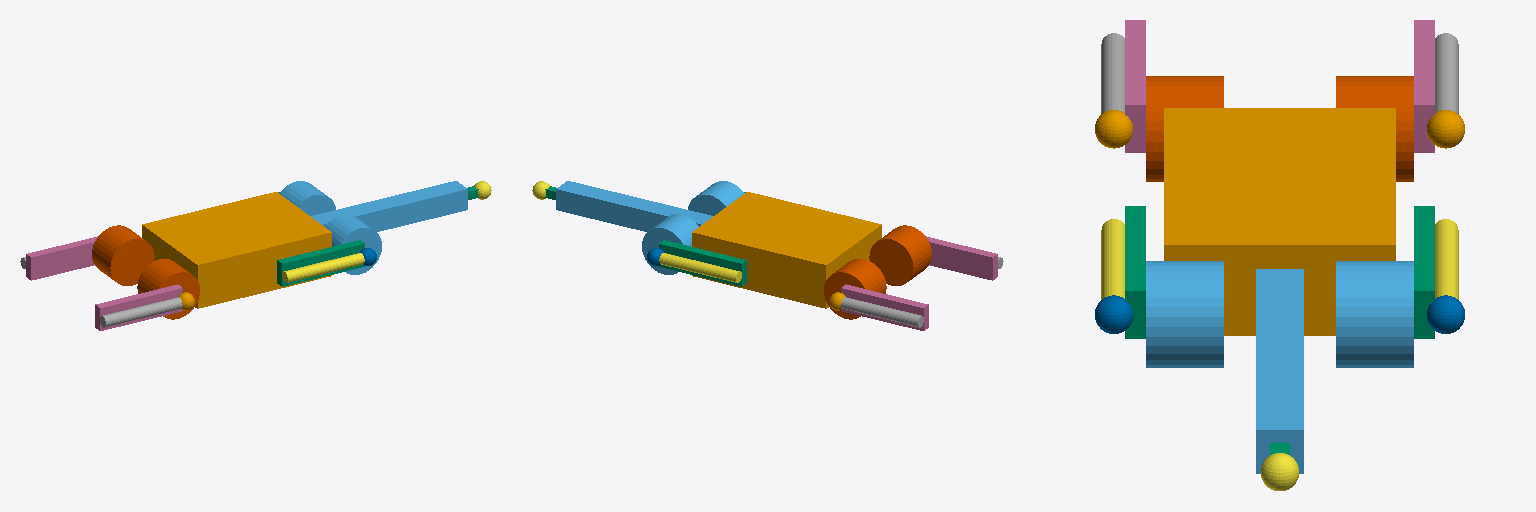
--- What the picture shows (computed from the rendered views, not written in the file) ---
3 views of the same robot in one strip: view 1: azimuth 30°, elevation 25°; view 2: azimuth 150°, elevation 25°; view 3: azimuth 270°, elevation 25° (orthographic).
Robot: spirit — 20 links, 19 joints (14 revolute, 5 fixed); root link body; default pose: every joint at zero.
Links seen in each view (by area): view 1: body, tail_link_0, hip1, upper1, hip3, hip2, upper2, upper3, hip0, lower3, lower2; view 2: body, tail_link_0, hip3, upper3, hip1, hip0, upper0, upper1, hip2, lower1, lower0; view 3: body, tail_link_0, hip0, hip2, hip1, hip3, upper1, upper3, upper0, upper2, lower1, lower3 (+7 smaller).
Boxes of the visible links, <box> form: body: <box>142,192,331,308</box>; tail_link_0: <box>311,181,467,231</box>; hip1: <box>92,225,154,285</box>; upper1: <box>26,236,97,280</box>; hip3: <box>137,259,199,319</box>; hip2: <box>325,214,381,274</box>; upper2: <box>277,240,364,286</box>; upper3: <box>95,284,182,330</box>; hip0: <box>279,181,335,215</box>; lower3: <box>100,297,182,327</box>; lower2: <box>282,253,364,282</box>; body: <box>692,192,881,308</box>; tail_link_0: <box>556,181,712,231</box>; hip3: <box>869,225,931,285</box>; upper3: <box>926,236,997,280</box>; hip1: <box>824,259,886,319</box>; hip0: <box>642,214,698,274</box>; upper0: <box>659,240,746,286</box>; upper1: <box>841,284,928,330</box>; hip2: <box>688,181,744,215</box>; lower1: <box>841,297,923,327</box>; lower0: <box>659,253,741,282</box>; body: <box>1164,108,1395,335</box>; tail_link_0: <box>1256,269,1303,473</box>; hip0: <box>1336,261,1413,367</box>; hip2: <box>1146,261,1223,367</box>; hip1: <box>1336,76,1413,181</box>; hip3: <box>1146,76,1223,181</box>; upper1: <box>1414,20,1434,152</box>; upper3: <box>1125,20,1145,152</box>; upper0: <box>1414,206,1434,338</box>; upper2: <box>1125,206,1145,338</box>; lower1: <box>1435,33,1458,113</box>; lower3: <box>1101,33,1124,113</box>.
Bounding box of the posed robot: 1.06 × 0.382 × 0.11 m (x, y, z).
Geometry: primitives only (box / cylinder / sphere), no mesh files.

URDF robot description (spirit):
<?xml version="1.0" encoding="utf-8"?>
<!-- =================================================================================== -->
<!-- |    This document was autogenerated by xacro from working_gazebo.urdf.xacro      | -->
<!-- |    EDITING THIS FILE BY HAND IS NOT RECOMMENDED                                 | -->
<!-- =================================================================================== -->
<!-- 
MIT License (modified)

Copyright (c) 2020 Ghost Robotics
Authors:
Avik De <[email redacted]>
Tom Jacobs <[email redacted]>

Permission is hereby granted, free of charge, to any person obtaining a copy
of this **file** (the "Software"), to deal
in the Software without restriction, including without limitation the rights
to use, copy, modify, merge, publish, distribute, sublicense, and/or sell
copies of the Software, and to permit persons to whom the Software is
furnished to do so, subject to the following conditions:

The above copyright notice and this permission notice shall be included in all
copies or substantial portions of the Software.

THE SOFTWARE IS PROVIDED "AS IS", WITHOUT WARRANTY OF ANY KIND, EXPRESS OR
IMPLIED, INCLUDING BUT NOT LIMITED TO THE WARRANTIES OF MERCHANTABILITY,
FITNESS FOR A PARTICULAR PURPOSE AND NONINFRINGEMENT. IN NO EVENT SHALL THE
AUTHORS OR COPYRIGHT HOLDERS BE LIABLE FOR ANY CLAIM, DAMAGES OR OTHER
LIABILITY, WHETHER IN AN ACTION OF CONTRACT, TORT OR OTHERWISE, ARISING FROM,
OUT OF OR IN CONNECTION WITH THE SOFTWARE OR THE USE OR OTHER DEALINGS IN THE
SOFTWARE. 
-->
<robot name="spirit">
  <!-- Body -->
  <link name="body">
    <visual>
      <origin rpy="0 0 0" xyz="0 0 0"/>
      <geometry>
        <box size="0.335 0.24 0.104"/>
      </geometry>
      <material name="darkgray"/>
    </visual>
    <inertial>
      <mass value="5.75"/>
      <!-- Uniform box -->
      <!-- <inertia ixx="1/12*${bodyMass}*(${bodyWidth}*${bodyWidth} + ${bodyHeight}*${bodyHeight})"  ixy="0"  ixz="0" iyy="1/12*${bodyMass}*(${bodyLength}*${bodyLength} + ${bodyHeight}*${bodyHeight})" iyz="0" izz="1/12*${bodyMass}*(${bodyLength}*${bodyLength} + ${bodyWidth}*${bodyWidth})"/> -->
      <inertia ixx="0.05" ixy="0" ixz="0" iyy="0.1" iyz="0" izz="0.1"/>
    </inertial>
    <!-- Just copy geometry for collision -->
    <collision>
      <origin rpy="0 0 0" xyz="0 0 0"/>
      <geometry>
        <box size="0.335 0.24 0.104"/>
      </geometry>
    </collision>
  </link>
  <gazebo reference="body">
    <material>Gazebo/Black</material>
  </gazebo>
  <gazebo reference="body">
    <gravity>true</gravity>
    <sensor name="imu_sensor" type="imu">
      <always_on>true</always_on>
      <visualize>true</visualize>
      <topic>__default_topic_</topic>
      <plugin filename="libgazebo_ros_imu_sensor.so" name="imu_plugin">
        <topicName>imu</topicName>
        <bodyName>body</bodyName>
        <updateRateHZ>500.0</updateRateHZ>
        <gaussianNoise>0.0</gaussianNoise>
        <xyzOffset>0 0 0</xyzOffset>
        <rpyOffset>0 0 0</rpyOffset>
        <frameName>body</frameName>
        <initialOrientationAsReference>true</initialOrientationAsReference>
      </plugin>
      <pose>0 0 0 0 0 0</pose>
    </sensor>
  </gazebo>
  <!-- Define our leg macro -->
  <!-- Hip motor -->
  <link name="hip0">
    <visual>
      <origin rpy="1.5707963268 0 0" xyz="0 0.028 0"/>
      <geometry>
        <cylinder length="0.08" radius="0.055"/>
      </geometry>
    </visual>
    <collision>
      <origin rpy="1.5707963268 0 0" xyz="0 0.028 0"/>
      <geometry>
        <cylinder length="0.08" radius="0.055"/>
      </geometry>
    </collision>
    <inertial>
      <mass value="0.575"/>
      <!-- <inertia ixx="1/12*${podMass}*${podLength}*${podLength} + 1/4*${podMass}*${podRadius}*${podRadius}"  ixy="0"  ixz="0" iyy="1/12*${podMass}*${podLength}*${podLength} + 1/4*${podMass}*${podRadius}*${podRadius}" iyz="0" izz="1/2*${podMass}*${podRadius}*$
				{podRadius}" /> -->
      <inertia ixx="0.00066963541" ixy="0" ixz="0" iyy="0.00066963541" iyz="0" izz="0.0008696875"/>
    </inertial>
  </link>
  <gazebo reference="hip0">
    <material>Gazebo/Grey</material>
  </gazebo>
  <!-- Abduction joint. Joint names are: 8 9 10 11 -->
  <joint name="8" type="revolute">
    <parent link="body"/>
    <child link="hip0"/>
    <axis xyz="1 0 0"/>
    <origin xyz="0.2263 0.07 0"/>
    <limit effort="40" lower="-0.707" upper="0.707" velocity="30"/>
    <dynamics damping="0.0" friction="0.0"/>
  </joint>
  <!-- Transmission elements required for Gazebo -->
  <transmission name="transmission_8">
    <type>transmission_interface/SimpleTransmission</type>
    <joint name="8">
      <hardwareInterface>hardware_interface/EffortJointInterface</hardwareInterface>
    </joint>
    <actuator name="motor_8">
      <hardwareInterface>EffortJointInterface</hardwareInterface>
      <mechanicalReduction>1</mechanicalReduction>
    </actuator>
  </transmission>
  <!-- Upper leg -->
  <link name="upper0">
    <visual>
      <origin rpy="0 0 0" xyz="-0.103 -0.022 0"/>
      <geometry>
        <box size="0.206 0.022 0.055"/>
      </geometry>
      <material name="silver"/>
    </visual>
    <collision>
      <origin rpy="0 0 0" xyz="-0.103 -0.022 0"/>
      <geometry>
        <box size="0.206 0.022 0.055"/>
      </geometry>
    </collision>
    <inertial>
      <mass value="0.775"/>
      <inertia ixx="5e-05" ixy="0" ixz="0" iyy="0.001" iyz="0" izz="0.001"/>
    </inertial>
  </link>
  <gazebo reference="upper0">
    <material>Gazebo/DarkGrey</material>
  </gazebo>
  <!-- Hip joint. (Motor to upper leg). Joint names are: 0 2 4 6 -->
  <joint name="0" type="revolute">
    <parent link="hip0"/>
    <child link="upper0"/>
    <axis xyz="0 -1 0"/>
    <origin xyz="0 0.10098 0"/>
    <!--  rpy="0 -0.3 0" -->
    <limit effort="40" lower="-6.28318530718" upper="6.28318530718" velocity="30"/>
    <dynamics damping="0.0" friction="0.0"/>
  </joint>
  <!-- Transmission elements required for Gazebo -->
  <transmission name="transmission_0">
    <type>transmission_interface/SimpleTransmission</type>
    <joint name="0">
      <hardwareInterface>hardware_interface/EffortJointInterface</hardwareInterface>
    </joint>
    <actuator name="motor_0">
      <hardwareInterface>EffortJointInterface</hardwareInterface>
      <mechanicalReduction>1</mechanicalReduction>
    </actuator>
  </transmission>
  <!-- Lower leg -->
  <link name="lower0">
    <visual>
      <origin rpy="0 1.5707963268 0" xyz="0.103 0 0"/>
      <geometry>
        <cylinder length="0.206" radius="0.013"/>
      </geometry>
      <material name="darkgray"/>
    </visual>
    <collision>
      <origin rpy="0 1.5707963268 0" xyz="0.103 0 0"/>
      <geometry>
        <cylinder length="0.206" radius="0.013"/>
      </geometry>
    </collision>
    <inertial>
      <mass value="0.075"/>
      <inertia ixx="5e-06" ixy="0" ixz="0" iyy="0.0001" iyz="0" izz="0.0001"/>
    </inertial>
  </link>
  <gazebo reference="lower0">
    <material>Gazebo/Grey</material>
  </gazebo>
  <!-- Knee joint. Joint names are: 1 3 5 7 -->
  <joint name="1" type="revolute">
    <parent link="upper0"/>
    <child link="lower0"/>
    <axis xyz="0 1 0"/>
    <origin xyz="-0.206 0 0"/>
    <!--rpy="0 0.5 0"-->
    <limit effort="40" lower="0" upper="3.14159265359" velocity="30"/>
    <dynamics damping="0.0" friction="0.0"/>
  </joint>
  <!-- Transmission elements required for Gazebo -->
  <transmission name="transmission_1">
    <type>transmission_interface/SimpleTransmission</type>
    <joint name="1">
      <hardwareInterface>hardware_interface/EffortJointInterface</hardwareInterface>
    </joint>
    <actuator name="motor_1">
      <hardwareInterface>EffortJointInterface</hardwareInterface>
      <mechanicalReduction>1</mechanicalReduction>
    </actuator>
  </transmission>
  <!-- Toe -->
  <link name="toe0">
    <contact>
      <friction_anchor/>
      <stiffness value="30000.0"/>
      <damping value="1000.0"/>
      <spinning_friction value="0.3"/>
      <lateral_friction value="50.0"/>
    </contact>
    <visual>
      <origin rpy="0 0 0" xyz="0 0 0"/>
      <geometry>
        <sphere radius="0.02"/>
      </geometry>
      <material name="darkgray"/>
    </visual>
    <collision>
      <origin rpy="0 0 0" xyz="0 0 0"/>
      <geometry>
        <sphere radius="0.02"/>
      </geometry>
    </collision>
    <inertial>
      <mass value="0.015"/>
      <inertia ixx="0.000025" ixy="0" ixz="0" iyy="0.000025" iyz="0" izz="0.000025"/>
      <!-- <inertia ixx="2/5*${toeMass}*${toeRadius}*${toeRadius}"  ixy="0"  ixz="0" iyy="2/5*${toeMass}*${toeRadius}*${toeRadius}" iyz="0" izz="2/5*${toeMass}*${toeRadius}*${toeRadius}" /> -->
    </inertial>
  </link>
  <gazebo reference="toe0">
    <material>Gazebo/Black</material>
    <collision>
      <surface>
        <bounce>
          <restitution_coefficient>0</restitution_coefficient>
          <threshold>1e+06</threshold>
        </bounce>
        <friction>
          <torsional>
            <coefficient>0.3</coefficient>
          </torsional>
          <ode>
            <mu>100.0</mu>
            <mu2>50.0</mu2>
          </ode>
          <bullet>
            <rolling_friction>0.3</rolling_friction>
            <friction2>50.0</friction2>
          </bullet>
        </friction>
        <contact>
          <bullet>
            <kp>30000.0</kp>
            <kd>1000.0</kd>
          </bullet>
          <ode>
            <kp>30000.0</kp>
            <kd>1000.0</kd>
          </ode>
        </contact>
      </surface>
    </collision>
  </gazebo>
  <joint name="jtoe0" type="fixed">
    <parent link="lower0"/>
    <child link="toe0"/>
    <origin xyz="0.206 0 -0.0"/>
    <dynamics damping="0.0" friction="0.0"/>
  </joint>
  <!-- Hip motor -->
  <link name="hip1">
    <visual>
      <origin rpy="1.5707963268 0 0" xyz="0 0.028 0"/>
      <geometry>
        <cylinder length="0.08" radius="0.055"/>
      </geometry>
    </visual>
    <collision>
      <origin rpy="1.5707963268 0 0" xyz="0 0.028 0"/>
      <geometry>
        <cylinder length="0.08" radius="0.055"/>
      </geometry>
    </collision>
    <inertial>
      <mass value="0.575"/>
      <!-- <inertia ixx="1/12*${podMass}*${podLength}*${podLength} + 1/4*${podMass}*${podRadius}*${podRadius}"  ixy="0"  ixz="0" iyy="1/12*${podMass}*${podLength}*${podLength} + 1/4*${podMass}*${podRadius}*${podRadius}" iyz="0" izz="1/2*${podMass}*${podRadius}*$
				{podRadius}" /> -->
      <inertia ixx="0.00066963541" ixy="0" ixz="0" iyy="0.00066963541" iyz="0" izz="0.0008696875"/>
    </inertial>
  </link>
  <gazebo reference="hip1">
    <material>Gazebo/Grey</material>
  </gazebo>
  <!-- Abduction joint. Joint names are: 8 9 10 11 -->
  <joint name="9" type="revolute">
    <parent link="body"/>
    <child link="hip1"/>
    <axis xyz="1 0 0"/>
    <origin xyz="-0.2263 0.07 0"/>
    <limit effort="40" lower="-0.707" upper="0.707" velocity="30"/>
    <dynamics damping="0.0" friction="0.0"/>
  </joint>
  <!-- Transmission elements required for Gazebo -->
  <transmission name="transmission_9">
    <type>transmission_interface/SimpleTransmission</type>
    <joint name="9">
      <hardwareInterface>hardware_interface/EffortJointInterface</hardwareInterface>
    </joint>
    <actuator name="motor_9">
      <hardwareInterface>EffortJointInterface</hardwareInterface>
      <mechanicalReduction>1</mechanicalReduction>
    </actuator>
  </transmission>
  <!-- Upper leg -->
  <link name="upper1">
    <visual>
      <origin rpy="0 0 0" xyz="-0.103 -0.022 0"/>
      <geometry>
        <box size="0.206 0.022 0.055"/>
      </geometry>
      <material name="silver"/>
    </visual>
    <collision>
      <origin rpy="0 0 0" xyz="-0.103 -0.022 0"/>
      <geometry>
        <box size="0.206 0.022 0.055"/>
      </geometry>
    </collision>
    <inertial>
      <mass value="0.775"/>
      <inertia ixx="5e-05" ixy="0" ixz="0" iyy="0.001" iyz="0" izz="0.001"/>
    </inertial>
  </link>
  <gazebo reference="upper1">
    <material>Gazebo/DarkGrey</material>
  </gazebo>
  <!-- Hip joint. (Motor to upper leg). Joint names are: 0 2 4 6 -->
  <joint name="2" type="revolute">
    <parent link="hip1"/>
    <child link="upper1"/>
    <axis xyz="0 -1 0"/>
    <origin xyz="0 0.10098 0"/>
    <!--  rpy="0 -0.3 0" -->
    <limit effort="40" lower="-6.28318530718" upper="6.28318530718" velocity="30"/>
    <dynamics damping="0.0" friction="0.0"/>
  </joint>
  <!-- Transmission elements required for Gazebo -->
  <transmission name="transmission_2">
    <type>transmission_interface/SimpleTransmission</type>
    <joint name="2">
      <hardwareInterface>hardware_interface/EffortJointInterface</hardwareInterface>
    </joint>
    <actuator name="motor_2">
      <hardwareInterface>EffortJointInterface</hardwareInterface>
      <mechanicalReduction>1</mechanicalReduction>
    </actuator>
  </transmission>
  <!-- Lower leg -->
  <link name="lower1">
    <visual>
      <origin rpy="0 1.5707963268 0" xyz="0.103 0 0"/>
      <geometry>
        <cylinder length="0.206" radius="0.013"/>
      </geometry>
      <material name="darkgray"/>
    </visual>
    <collision>
      <origin rpy="0 1.5707963268 0" xyz="0.103 0 0"/>
      <geometry>
        <cylinder length="0.206" radius="0.013"/>
      </geometry>
    </collision>
    <inertial>
      <mass value="0.075"/>
      <inertia ixx="5e-06" ixy="0" ixz="0" iyy="0.0001" iyz="0" izz="0.0001"/>
    </inertial>
  </link>
  <gazebo reference="lower1">
    <material>Gazebo/Grey</material>
  </gazebo>
  <!-- Knee joint. Joint names are: 1 3 5 7 -->
  <joint name="3" type="revolute">
    <parent link="upper1"/>
    <child link="lower1"/>
    <axis xyz="0 1 0"/>
    <origin xyz="-0.206 0 0"/>
    <!--rpy="0 0.5 0"-->
    <limit effort="40" lower="0" upper="3.14159265359" velocity="30"/>
    <dynamics damping="0.0" friction="0.0"/>
  </joint>
  <!-- Transmission elements required for Gazebo -->
  <transmission name="transmission_3">
    <type>transmission_interface/SimpleTransmission</type>
    <joint name="3">
      <hardwareInterface>hardware_interface/EffortJointInterface</hardwareInterface>
    </joint>
    <actuator name="motor_3">
      <hardwareInterface>EffortJointInterface</hardwareInterface>
      <mechanicalReduction>1</mechanicalReduction>
    </actuator>
  </transmission>
  <!-- Toe -->
  <link name="toe1">
    <contact>
      <friction_anchor/>
      <stiffness value="30000.0"/>
      <damping value="1000.0"/>
      <spinning_friction value="0.3"/>
      <lateral_friction value="50.0"/>
    </contact>
    <visual>
      <origin rpy="0 0 0" xyz="0 0 0"/>
      <geometry>
        <sphere radius="0.02"/>
      </geometry>
      <material name="darkgray"/>
    </visual>
    <collision>
      <origin rpy="0 0 0" xyz="0 0 0"/>
      <geometry>
        <sphere radius="0.02"/>
      </geometry>
    </collision>
    <inertial>
      <mass value="0.015"/>
      <inertia ixx="0.000025" ixy="0" ixz="0" iyy="0.000025" iyz="0" izz="0.000025"/>
      <!-- <inertia ixx="2/5*${toeMass}*${toeRadius}*${toeRadius}"  ixy="0"  ixz="0" iyy="2/5*${toeMass}*${toeRadius}*${toeRadius}" iyz="0" izz="2/5*${toeMass}*${toeRadius}*${toeRadius}" /> -->
    </inertial>
  </link>
  <gazebo reference="toe1">
    <material>Gazebo/Black</material>
    <collision>
      <surface>
        <bounce>
          <restitution_coefficient>0</restitution_coefficient>
          <threshold>1e+06</threshold>
        </bounce>
        <friction>
          <torsional>
            <coefficient>0.3</coefficient>
          </torsional>
          <ode>
            <mu>100.0</mu>
            <mu2>50.0</mu2>
          </ode>
          <bullet>
            <rolling_friction>0.3</rolling_friction>
            <friction2>50.0</friction2>
          </bullet>
        </friction>
        <contact>
          <bullet>
            <kp>30000.0</kp>
            <kd>1000.0</kd>
          </bullet>
          <ode>
            <kp>30000.0</kp>
            <kd>1000.0</kd>
          </ode>
        </contact>
      </surface>
    </collision>
  </gazebo>
  <joint name="jtoe1" type="fixed">
    <parent link="lower1"/>
    <child link="toe1"/>
    <origin xyz="0.206 0 -0.0"/>
    <dynamics damping="0.0" friction="0.0"/>
  </joint>
  <!-- Hip motor -->
  <link name="hip2">
    <visual>
      <origin rpy="1.5707963268 0 0" xyz="0 -0.028 0"/>
      <geometry>
        <cylinder length="0.08" radius="0.055"/>
      </geometry>
    </visual>
    <collision>
      <origin rpy="1.5707963268 0 0" xyz="0 -0.028 0"/>
      <geometry>
        <cylinder length="0.08" radius="0.055"/>
      </geometry>
    </collision>
    <inertial>
      <mass value="0.575"/>
      <!-- <inertia ixx="1/12*${podMass}*${podLength}*${podLength} + 1/4*${podMass}*${podRadius}*${podRadius}"  ixy="0"  ixz="0" iyy="1/12*${podMass}*${podLength}*${podLength} + 1/4*${podMass}*${podRadius}*${podRadius}" iyz="0" izz="1/2*${podMass}*${podRadius}*$
				{podRadius}" /> -->
      <inertia ixx="0.00066963541" ixy="0" ixz="0" iyy="0.00066963541" iyz="0" izz="0.0008696875"/>
    </inertial>
  </link>
  <gazebo reference="hip2">
    <material>Gazebo/Grey</material>
  </gazebo>
  <!-- Abduction joint. Joint names are: 8 9 10 11 -->
  <joint name="10" type="revolute">
    <parent link="body"/>
    <child link="hip2"/>
    <axis xyz="1 0 0"/>
    <origin xyz="0.2263 -0.07 0"/>
    <limit effort="40" lower="-0.707" upper="0.707" velocity="30"/>
    <dynamics damping="0.0" friction="0.0"/>
  </joint>
  <!-- Transmission elements required for Gazebo -->
  <transmission name="transmission_10">
    <type>transmission_interface/SimpleTransmission</type>
    <joint name="10">
      <hardwareInterface>hardware_interface/EffortJointInterface</hardwareInterface>
    </joint>
    <actuator name="motor_10">
      <hardwareInterface>EffortJointInterface</hardwareInterface>
      <mechanicalReduction>1</mechanicalReduction>
    </actuator>
  </transmission>
  <!-- Upper leg -->
  <link name="upper2">
    <visual>
      <origin rpy="0 0 0" xyz="-0.103 0.022 0"/>
      <geometry>
        <box size="0.206 0.022 0.055"/>
      </geometry>
      <material name="silver"/>
    </visual>
    <collision>
      <origin rpy="0 0 0" xyz="-0.103 0.022 0"/>
      <geometry>
        <box size="0.206 0.022 0.055"/>
      </geometry>
    </collision>
    <inertial>
      <mass value="0.775"/>
      <inertia ixx="5e-05" ixy="0" ixz="0" iyy="0.001" iyz="0" izz="0.001"/>
    </inertial>
  </link>
  <gazebo reference="upper2">
    <material>Gazebo/DarkGrey</material>
  </gazebo>
  <!-- Hip joint. (Motor to upper leg). Joint names are: 0 2 4 6 -->
  <joint name="4" type="revolute">
    <parent link="hip2"/>
    <child link="upper2"/>
    <axis xyz="0 -1 0"/>
    <origin xyz="0 -0.10098 0"/>
    <!--  rpy="0 -0.3 0" -->
    <limit effort="40" lower="-6.28318530718" upper="6.28318530718" velocity="30"/>
    <dynamics damping="0.0" friction="0.0"/>
  </joint>
  <!-- Transmission elements required for Gazebo -->
  <transmission name="transmission_4">
    <type>transmission_interface/SimpleTransmission</type>
    <joint name="4">
      <hardwareInterface>hardware_interface/EffortJointInterface</hardwareInterface>
    </joint>
    <actuator name="motor_4">
      <hardwareInterface>EffortJointInterface</hardwareInterface>
      <mechanicalReduction>1</mechanicalReduction>
    </actuator>
  </transmission>
  <!-- Lower leg -->
  <link name="lower2">
    <visual>
      <origin rpy="0 1.5707963268 0" xyz="0.103 0 0"/>
      <geometry>
        <cylinder length="0.206" radius="0.013"/>
      </geometry>
      <material name="darkgray"/>
    </visual>
    <collision>
      <origin rpy="0 1.5707963268 0" xyz="0.103 0 0"/>
      <geometry>
        <cylinder length="0.206" radius="0.013"/>
      </geometry>
    </collision>
    <inertial>
      <mass value="0.075"/>
      <inertia ixx="5e-06" ixy="0" ixz="0" iyy="0.0001" iyz="0" izz="0.0001"/>
    </inertial>
  </link>
  <gazebo reference="lower2">
    <material>Gazebo/Grey</material>
  </gazebo>
  <!-- Knee joint. Joint names are: 1 3 5 7 -->
  <joint name="5" type="revolute">
    <parent link="upper2"/>
    <child link="lower2"/>
    <axis xyz="0 1 0"/>
    <origin xyz="-0.206 0 0"/>
    <!--rpy="0 0.5 0"-->
    <limit effort="40" lower="0" upper="3.14159265359" velocity="30"/>
    <dynamics damping="0.0" friction="0.0"/>
  </joint>
  <!-- Transmission elements required for Gazebo -->
  <transmission name="transmission_5">
    <type>transmission_interface/SimpleTransmission</type>
    <joint name="5">
      <hardwareInterface>hardware_interface/EffortJointInterface</hardwareInterface>
    </joint>
    <actuator name="motor_5">
      <hardwareInterface>EffortJointInterface</hardwareInterface>
      <mechanicalReduction>1</mechanicalReduction>
    </actuator>
  </transmission>
  <!-- Toe -->
  <link name="toe2">
    <contact>
      <friction_anchor/>
      <stiffness value="30000.0"/>
      <damping value="1000.0"/>
      <spinning_friction value="0.3"/>
      <lateral_friction value="50.0"/>
    </contact>
    <visual>
      <origin rpy="0 0 0" xyz="0 0 0"/>
      <geometry>
        <sphere radius="0.02"/>
      </geometry>
      <material name="darkgray"/>
    </visual>
    <collision>
      <origin rpy="0 0 0" xyz="0 0 0"/>
      <geometry>
        <sphere radius="0.02"/>
      </geometry>
    </collision>
    <inertial>
      <mass value="0.015"/>
      <inertia ixx="0.000025" ixy="0" ixz="0" iyy="0.000025" iyz="0" izz="0.000025"/>
      <!-- <inertia ixx="2/5*${toeMass}*${toeRadius}*${toeRadius}"  ixy="0"  ixz="0" iyy="2/5*${toeMass}*${toeRadius}*${toeRadius}" iyz="0" izz="2/5*${toeMass}*${toeRadius}*${toeRadius}" /> -->
    </inertial>
  </link>
  <gazebo reference="toe2">
    <material>Gazebo/Black</material>
    <collision>
      <surface>
        <bounce>
          <restitution_coefficient>0</restitution_coefficient>
          <threshold>1e+06</threshold>
        </bounce>
        <friction>
          <torsional>
            <coefficient>0.3</coefficient>
          </torsional>
          <ode>
            <mu>100.0</mu>
            <mu2>50.0</mu2>
          </ode>
          <bullet>
            <rolling_friction>0.3</rolling_friction>
            <friction2>50.0</friction2>
          </bullet>
        </friction>
        <contact>
          <bullet>
            <kp>30000.0</kp>
            <kd>1000.0</kd>
          </bullet>
          <ode>
            <kp>30000.0</kp>
            <kd>1000.0</kd>
          </ode>
        </contact>
      </surface>
    </collision>
  </gazebo>
  <joint name="jtoe2" type="fixed">
    <parent link="lower2"/>
    <child link="toe2"/>
    <origin xyz="0.206 0 -0.0"/>
    <dynamics damping="0.0" friction="0.0"/>
  </joint>
  <!-- Hip motor -->
  <link name="hip3">
    <visual>
      <origin rpy="1.5707963268 0 0" xyz="0 -0.028 0"/>
      <geometry>
        <cylinder length="0.08" radius="0.055"/>
      </geometry>
    </visual>
    <collision>
      <origin rpy="1.5707963268 0 0" xyz="0 -0.028 0"/>
      <geometry>
        <cylinder length="0.08" radius="0.055"/>
      </geometry>
    </collision>
    <inertial>
      <mass value="0.575"/>
      <!-- <inertia ixx="1/12*${podMass}*${podLength}*${podLength} + 1/4*${podMass}*${podRadius}*${podRadius}"  ixy="0"  ixz="0" iyy="1/12*${podMass}*${podLength}*${podLength} + 1/4*${podMass}*${podRadius}*${podRadius}" iyz="0" izz="1/2*${podMass}*${podRadius}*$
				{podRadius}" /> -->
      <inertia ixx="0.00066963541" ixy="0" ixz="0" iyy="0.00066963541" iyz="0" izz="0.0008696875"/>
    </inertial>
  </link>
  <gazebo reference="hip3">
    <material>Gazebo/Grey</material>
  </gazebo>
  <!-- Abduction joint. Joint names are: 8 9 10 11 -->
  <joint name="11" type="revolute">
    <parent link="body"/>
    <child link="hip3"/>
    <axis xyz="1 0 0"/>
    <origin xyz="-0.2263 -0.07 0"/>
    <limit effort="40" lower="-0.707" upper="0.707" velocity="30"/>
    <dynamics damping="0.0" friction="0.0"/>
  </joint>
  <!-- Transmission elements required for Gazebo -->
  <transmission name="transmission_11">
    <type>transmission_interface/SimpleTransmission</type>
    <joint name="11">
      <hardwareInterface>hardware_interface/EffortJointInterface</hardwareInterface>
    </joint>
    <actuator name="motor_11">
      <hardwareInterface>EffortJointInterface</hardwareInterface>
      <mechanicalReduction>1</mechanicalReduction>
    </actuator>
  </transmission>
  <!-- Upper leg -->
  <link name="upper3">
    <visual>
      <origin rpy="0 0 0" xyz="-0.103 0.022 0"/>
      <geometry>
        <box size="0.206 0.022 0.055"/>
      </geometry>
      <material name="silver"/>
    </visual>
    <collision>
      <origin rpy="0 0 0" xyz="-0.103 0.022 0"/>
      <geometry>
        <box size="0.206 0.022 0.055"/>
      </geometry>
    </collision>
    <inertial>
      <mass value="0.775"/>
      <inertia ixx="5e-05" ixy="0" ixz="0" iyy="0.001" iyz="0" izz="0.001"/>
    </inertial>
  </link>
  <gazebo reference="upper3">
    <material>Gazebo/DarkGrey</material>
  </gazebo>
  <!-- Hip joint. (Motor to upper leg). Joint names are: 0 2 4 6 -->
  <joint name="6" type="revolute">
    <parent link="hip3"/>
    <child link="upper3"/>
    <axis xyz="0 -1 0"/>
    <origin xyz="0 -0.10098 0"/>
    <!--  rpy="0 -0.3 0" -->
    <limit effort="40" lower="-6.28318530718" upper="6.28318530718" velocity="30"/>
    <dynamics damping="0.0" friction="0.0"/>
  </joint>
  <!-- Transmission elements required for Gazebo -->
  <transmission name="transmission_6">
    <type>transmission_interface/SimpleTransmission</type>
    <joint name="6">
      <hardwareInterface>hardware_interface/EffortJointInterface</hardwareInterface>
    </joint>
    <actuator name="motor_6">
      <hardwareInterface>EffortJointInterface</hardwareInterface>
      <mechanicalReduction>1</mechanicalReduction>
    </actuator>
  </transmission>
  <!-- Lower leg -->
  <link name="lower3">
    <visual>
      <origin rpy="0 1.5707963268 0" xyz="0.103 0 0"/>
      <geometry>
        <cylinder length="0.206" radius="0.013"/>
      </geometry>
      <material name="darkgray"/>
    </visual>
    <collision>
      <origin rpy="0 1.5707963268 0" xyz="0.103 0 0"/>
      <geometry>
        <cylinder length="0.206" radius="0.013"/>
      </geometry>
    </collision>
    <inertial>
      <mass value="0.075"/>
      <inertia ixx="5e-06" ixy="0" ixz="0" iyy="0.0001" iyz="0" izz="0.0001"/>
    </inertial>
  </link>
  <gazebo reference="lower3">
    <material>Gazebo/Grey</material>
  </gazebo>
  <!-- Knee joint. Joint names are: 1 3 5 7 -->
  <joint name="7" type="revolute">
    <parent link="upper3"/>
    <child link="lower3"/>
    <axis xyz="0 1 0"/>
    <origin xyz="-0.206 0 0"/>
    <!--rpy="0 0.5 0"-->
    <limit effort="40" lower="0" upper="3.14159265359" velocity="30"/>
    <dynamics damping="0.0" friction="0.0"/>
  </joint>
  <!-- Transmission elements required for Gazebo -->
  <transmission name="transmission_7">
    <type>transmission_interface/SimpleTransmission</type>
    <joint name="7">
      <hardwareInterface>hardware_interface/EffortJointInterface</hardwareInterface>
    </joint>
    <actuator name="motor_7">
      <hardwareInterface>EffortJointInterface</hardwareInterface>
      <mechanicalReduction>1</mechanicalReduction>
    </actuator>
  </transmission>
  <!-- Toe -->
  <link name="toe3">
    <contact>
      <friction_anchor/>
      <stiffness value="30000.0"/>
      <damping value="1000.0"/>
      <spinning_friction value="0.3"/>
      <lateral_friction value="50.0"/>
    </contact>
    <visual>
      <origin rpy="0 0 0" xyz="0 0 0"/>
      <geometry>
        <sphere radius="0.02"/>
      </geometry>
      <material name="darkgray"/>
    </visual>
    <collision>
      <origin rpy="0 0 0" xyz="0 0 0"/>
      <geometry>
        <sphere radius="0.02"/>
      </geometry>
    </collision>
    <inertial>
      <mass value="0.015"/>
      <inertia ixx="0.000025" ixy="0" ixz="0" iyy="0.000025" iyz="0" izz="0.000025"/>
      <!-- <inertia ixx="2/5*${toeMass}*${toeRadius}*${toeRadius}"  ixy="0"  ixz="0" iyy="2/5*${toeMass}*${toeRadius}*${toeRadius}" iyz="0" izz="2/5*${toeMass}*${toeRadius}*${toeRadius}" /> -->
    </inertial>
  </link>
  <gazebo reference="toe3">
    <material>Gazebo/Black</material>
    <collision>
      <surface>
        <bounce>
          <restitution_coefficient>0</restitution_coefficient>
          <threshold>1e+06</threshold>
        </bounce>
        <friction>
          <torsional>
            <coefficient>0.3</coefficient>
          </torsional>
          <ode>
            <mu>100.0</mu>
            <mu2>50.0</mu2>
          </ode>
          <bullet>
            <rolling_friction>0.3</rolling_friction>
            <friction2>50.0</friction2>
          </bullet>
        </friction>
        <contact>
          <bullet>
            <kp>30000.0</kp>
            <kd>1000.0</kd>
          </bullet>
          <ode>
            <kp>30000.0</kp>
            <kd>1000.0</kd>
          </ode>
        </contact>
      </surface>
    </collision>
  </gazebo>
  <joint name="jtoe3" type="fixed">
    <parent link="lower3"/>
    <child link="toe3"/>
    <origin xyz="0.206 0 -0.0"/>
    <dynamics damping="0.0" friction="0.0"/>
  </joint>
  <!--    CUSTOMIZED SECTIONS BELOW. NOT FROM GHOST ROBOTICS.    -->
  <!-- Neck or tail-->
  <link name="tail_link_0">
    <visual>
      <origin rpy="0 0 0" xyz="0.2 0 0"/>
      <geometry>
	<box size="0.4 0.050 0.05"/>
      </geometry>
      <material name="darkgray"/>
    </visual>
    <inertial>
      <origin rpy="0 0 0" xyz="0.2 0 0"/>
      <mass value="1e-03"/>
      <inertia ixx="1e-04" ixy="0" ixz="0" iyy="1e-04" iyz="0" izz="1e-04"/>
    </inertial>
    <!-- Just copy geometry for collision -->
    <!-- <collision>
		<origin rpy="0 0 0" xyz="${0.5*neckLength1} 0 0"/>
			<geometry>
				<box size="${neckLength1} ${neckWidth} ${neckHeight}"/>
			</geometry>
		</collision> -->
  </link>
  <gazebo reference="tail_link_0">
    <material>Gazebo/Gray</material>
  </gazebo>
  <link name="tail_link_1">
    <visual>
      <origin rpy="0 0 0" xyz="0.025 0 0"/>
      <geometry>
	<box size="0.05 0.02 0.02"/>
      </geometry>
      <material name="darkgray"/>
    </visual>
    <inertial>
      <origin rpy="0 0 0" xyz="0.025 0 0"/>
      <mass value="1e-03"/>
      <inertia ixx="1e-04" ixy="0" ixz="0" iyy="1e-04" iyz="0" izz="1e-04"/>
    </inertial>
    <!-- Just copy geometry for collision -->
    <!-- <collision>
		<origin rpy="0 0 0" xyz="${0.5*neckLength2} 0 0"/>
			<geometry>
				<box size="${neckLength2} ${neckWidth} ${neckHeight}"/>
			</geometry>
		</collision> -->
  </link>
  <gazebo reference="tail_link_1">
    <material>Gazebo/Gray</material>
  </gazebo>
  <link name="tail_mass">
    <visual>
      <origin rpy="0 0 0" xyz="0 0 0"/>
      <geometry>
        <sphere radius="0.02"/>
      </geometry>
      <material name="gray"/>
    </visual>
    <inertial>
      <mass value="0.2764"/>
      <inertia ixx="2.764e-04" ixy="0" ixz="0" iyy="2.764e-04" iyz="0" izz="2.764e-04"/>
    </inertial>
    <collision>
      <origin rpy="0 0 0" xyz="0 0 0"/>
      <geometry>
        <sphere radius="0.02"/>
      </geometry>
    </collision>
  </link>
  <gazebo reference="tail_mass">
    <material>Gazebo/Gray</material>
  </gazebo>

  <!-- Tail joint -->
  <joint name="body_tail_joint_0" type="revolute">
    <parent link="body"/>
    <child link="tail_link_0"/>
    <axis xyz="0 1 0"/>
    <origin xyz="0.16 0 0"/>
    <limit effort="35" lower="-1.57" upper="1.57" velocity="1000000"/>
    <dynamics damping="0.0" friction="0.0"/>
  </joint>
  <!-- Transmission elements required for Gazebo -->
  <transmission name="transmission_body_tail_joint_0">
    <type>transmission_interface/SimpleTransmission</type>
    <joint name="body_tail_joint_0">
      <hardwareInterface>hardware_interface/EffortJointInterface</hardwareInterface>
    </joint>
    <actuator name="motor_body_tail_joint_0">
      <hardwareInterface>EffortJointInterface</hardwareInterface>
      <mechanicalReduction>1</mechanicalReduction>
    </actuator>
  </transmission>
  <joint name="body_tail_joint_1" type="revolute">
    <parent link="tail_link_0"/>
    <child link="tail_link_1"/>
    <axis xyz="0 1 0"/>
    <origin xyz="0.4 0 0"/>
    <limit effort="35" lower="-1.57" upper="1.57" velocity="1000000"/>
    <dynamics damping="0.0" friction="0.0"/>
  </joint>
  <!-- Transmission elements required for Gazebo -->
  <transmission name="transmission_body_tail_joint_1">
    <type>transmission_interface/SimpleTransmission</type>
    <joint name="body_tail_joint_1">
      <hardwareInterface>hardware_interface/EffortJointInterface</hardwareInterface>
    </joint>
    <actuator name="motor_body_tail_joint_1">
      <hardwareInterface>EffortJointInterface</hardwareInterface>
      <mechanicalReduction>1</mechanicalReduction>
    </actuator>
  </transmission>
  <joint name="tail_link_mass_joint" type="fixed">
    <parent link="tail_link_1"/>
    <child link="tail_mass"/>
    <origin xyz="0.05 0 0 "/>
    <dynamics damping="0.0" friction="0.0"/>
  </joint>
  <!--    CUSTOMIZED SECTIONS	ABOVE. NOT FROM GHOST ROBOTICS.    -->
  <!-- Add ros_control plugin -->
  <!-- <gazebo>
  		<plugin name="gazebo_ros_control" filename="libgazebo_ros_control.so">
    		<robotNamespace>/spirit</robotNamespace>
  		</plugin>
	</gazebo> -->
</robot>
